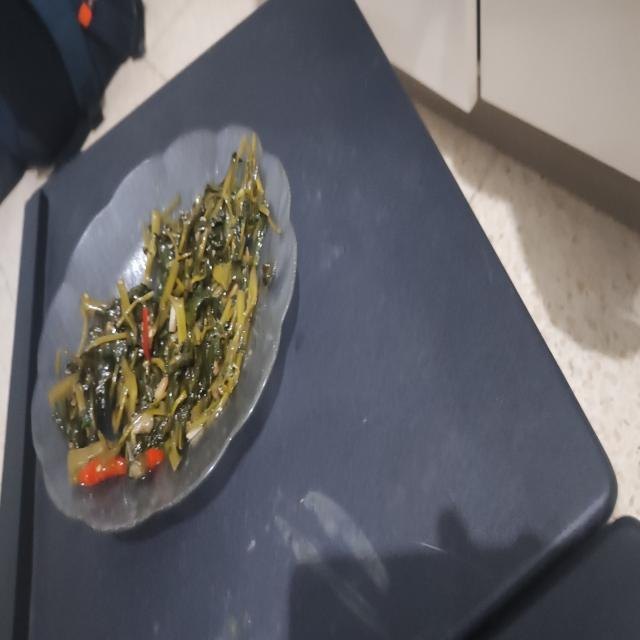tumis_kangkung: (49, 134, 278, 486)
